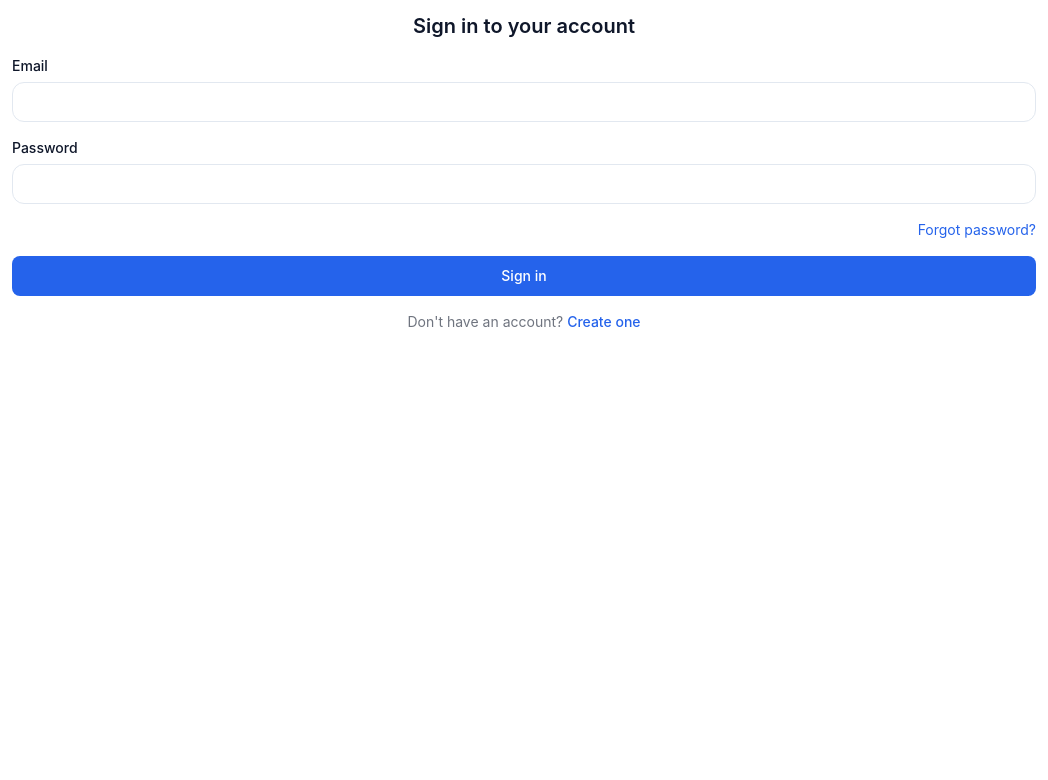
Test: LoginPage (integration) › shows an inline error and stays on the page when credentials are rejected
Type "jane@example.com" into the field labelled "Email" at (524, 102), box 12,82 -> 1036,122
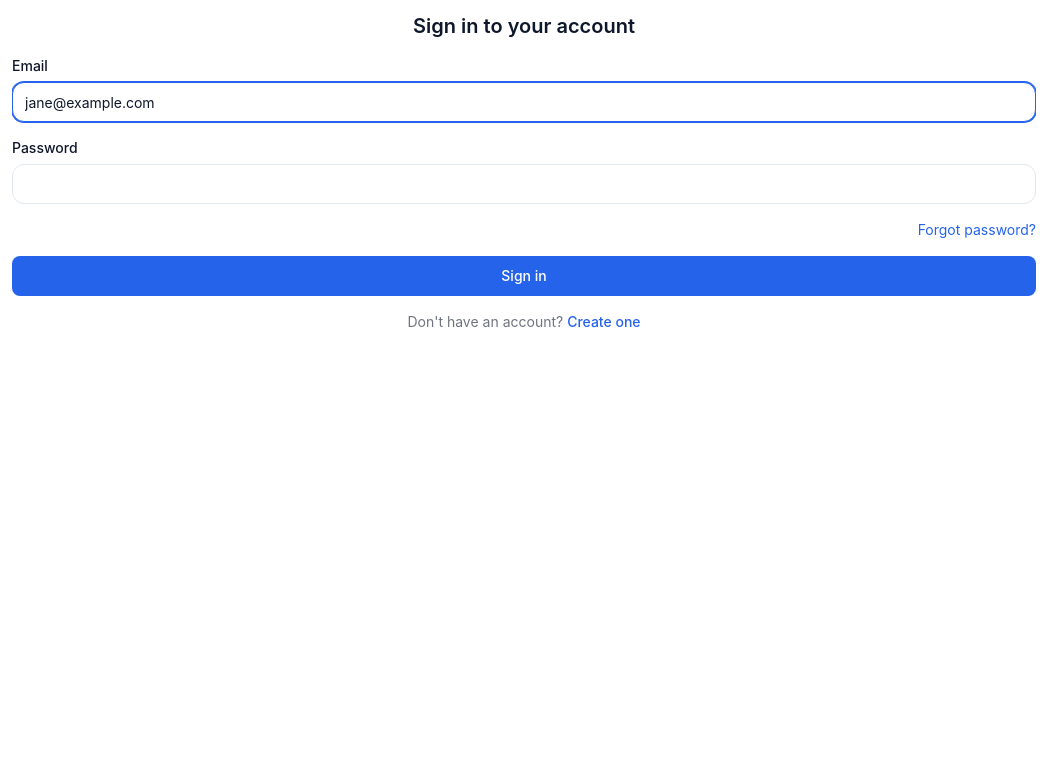
Type "WrongPassword" into the password field labelled "Password" at (524, 184), box 12,164 -> 1036,204
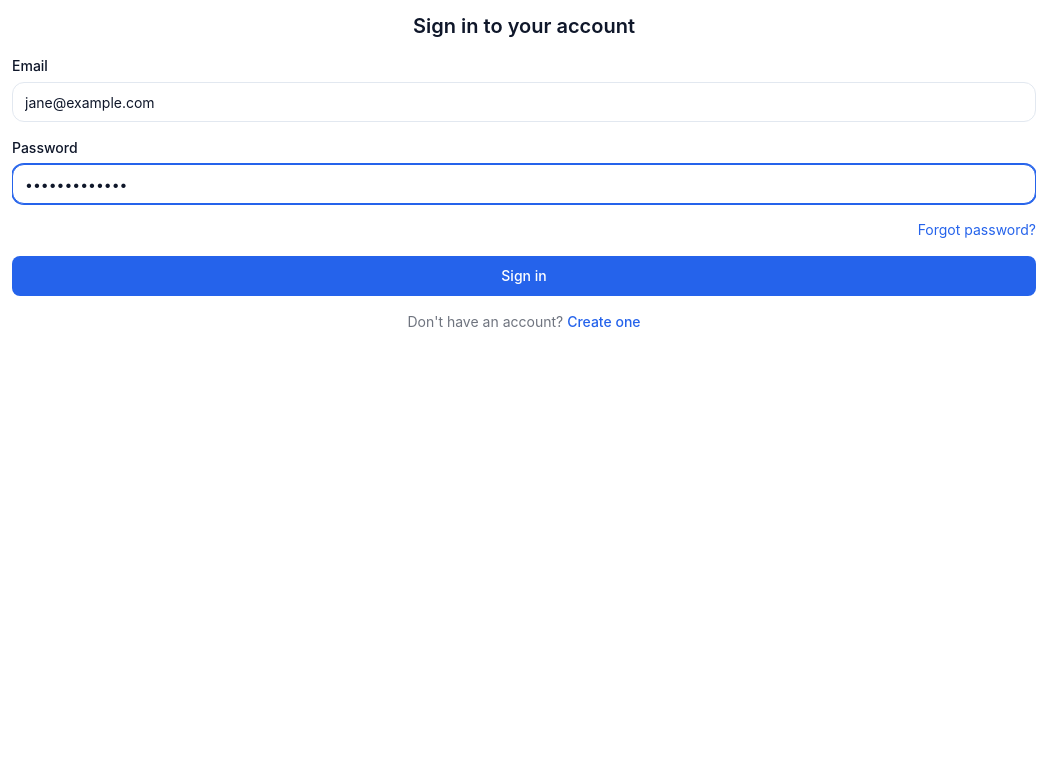
Click the button "Sign in" at (524, 276), box 12,256 -> 1036,296
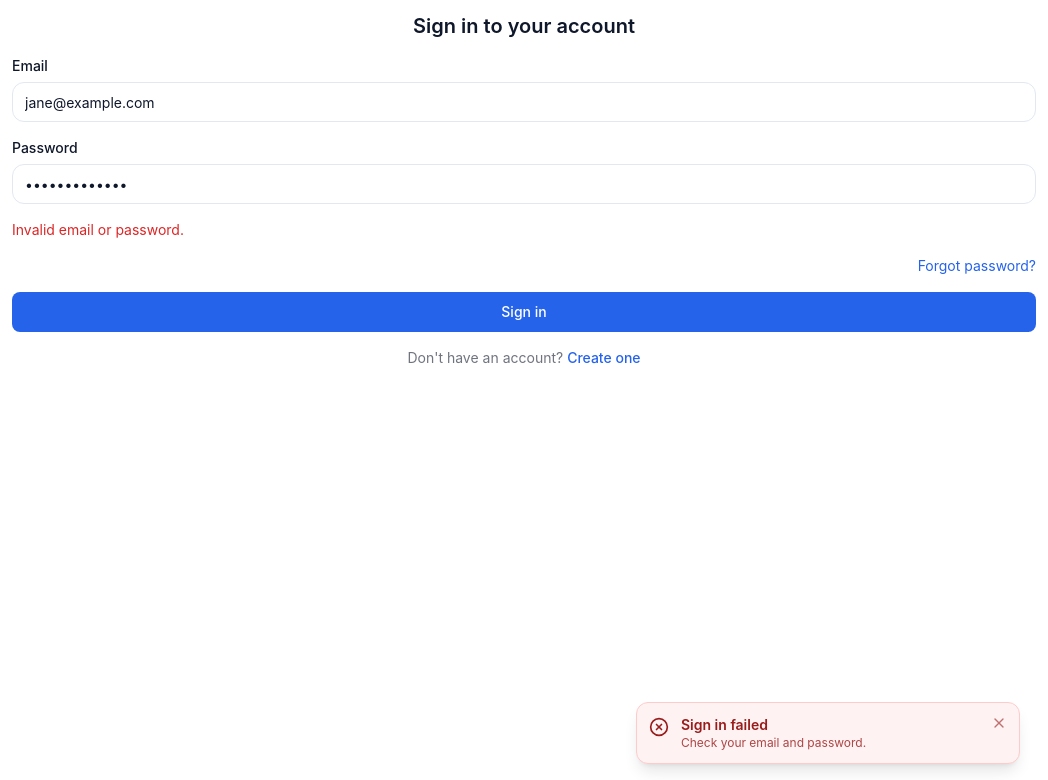
Expected: the text "Invalid email or password." is shown, 12,221 -> 184,238
